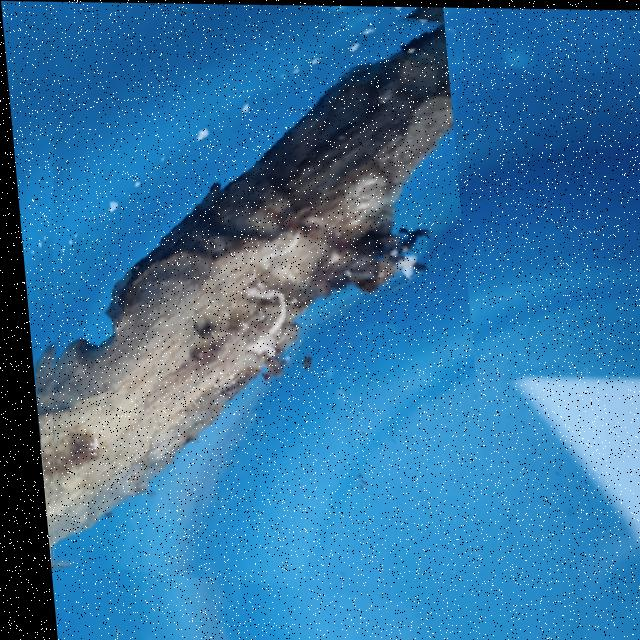litter: (0, 0, 483, 596)
